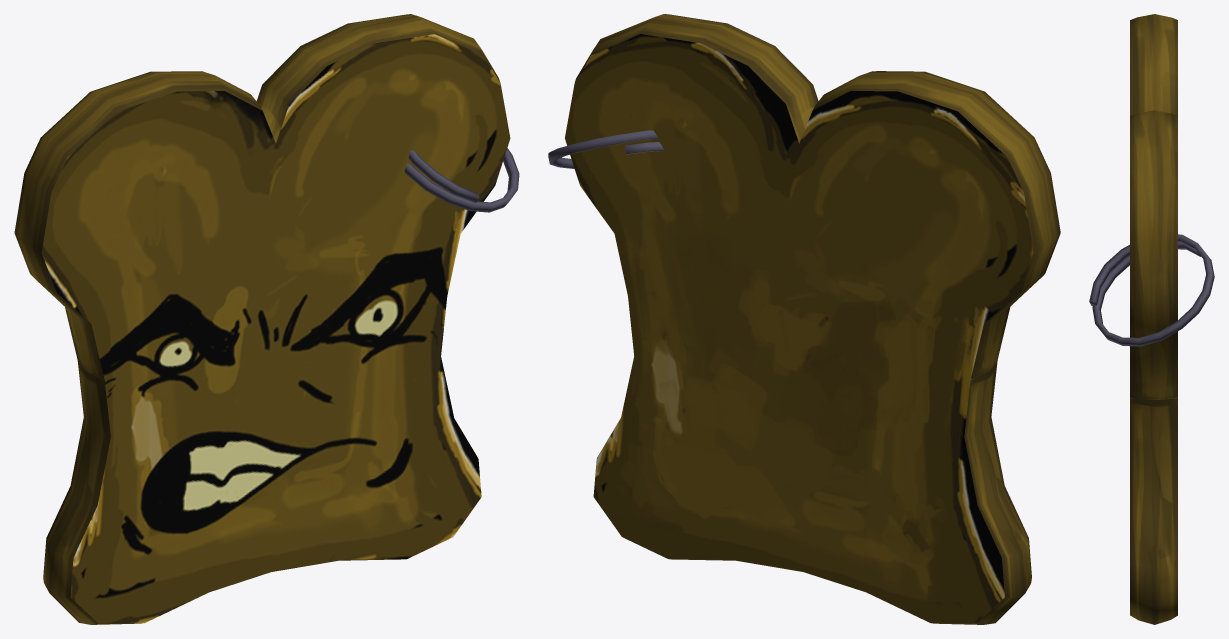
Rendered from Toast_Rogger.FBX.
3 views of the same model, side by side, from view 1: azimuth 30°, elevation 25°; view 2: azimuth 150°, elevation 25°; view 3: azimuth 270°, elevation 25° (orthographic). The views are drawn at different scales.
Visible parts, largest first — view 1: Toast002, Ring001; view 2: Toast002, Ring001; view 3: Toast002, Ring001.
Part boxes in pixels (x1,y1,x2,y2): Toast002: [14, 14, 510, 624]; Ring001: [404, 148, 519, 212]; Toast002: [565, 14, 1060, 624]; Ring001: [548, 130, 664, 168]; Toast002: [1130, 14, 1177, 624]; Ring001: [1089, 234, 1214, 346].
Size of the model in its own units: 92.75 by 96.57 by 23.06.
Materials: 2 (1 with a texture image).
